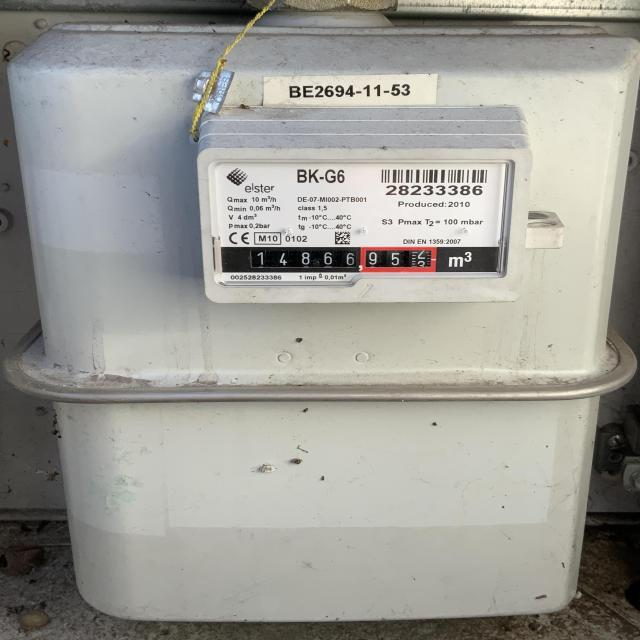gaz_meter: (212, 158, 504, 284)
indication: (246, 247, 438, 275)
